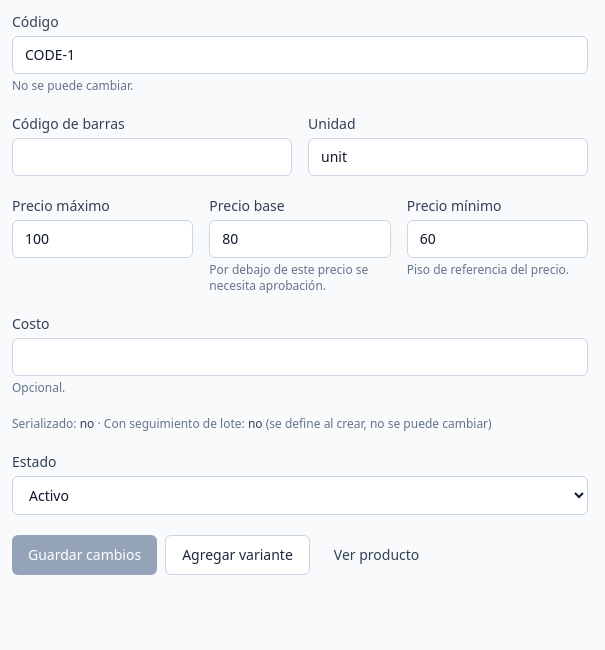
Test: VariantForm — edit › surfaces the backend's 409 stock-guard message too, the same way (defense in depth if client state was stale)
The width and height of the screenshot is (605, 650).
Select "Desactivado" in the dropdown labelled "Estado". click: coordinates (300, 496)
box: [12, 476, 588, 515]
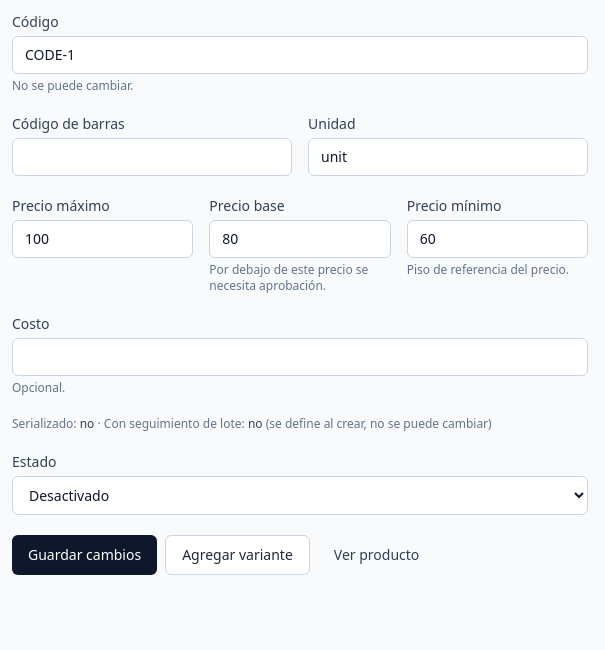
Click the button "Guardar cambios". click: coordinates (85, 555)
box: [12, 535, 157, 575]
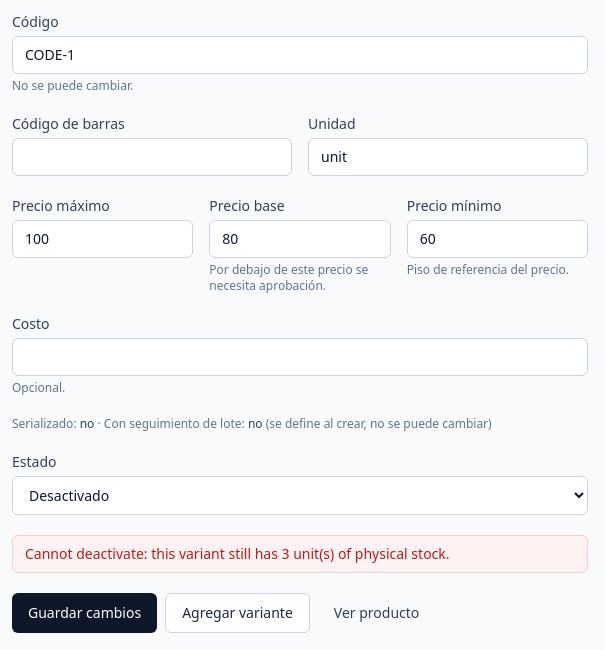
Check: the text "still has 3 unit(s)" is shown, box [25, 544, 450, 563]
